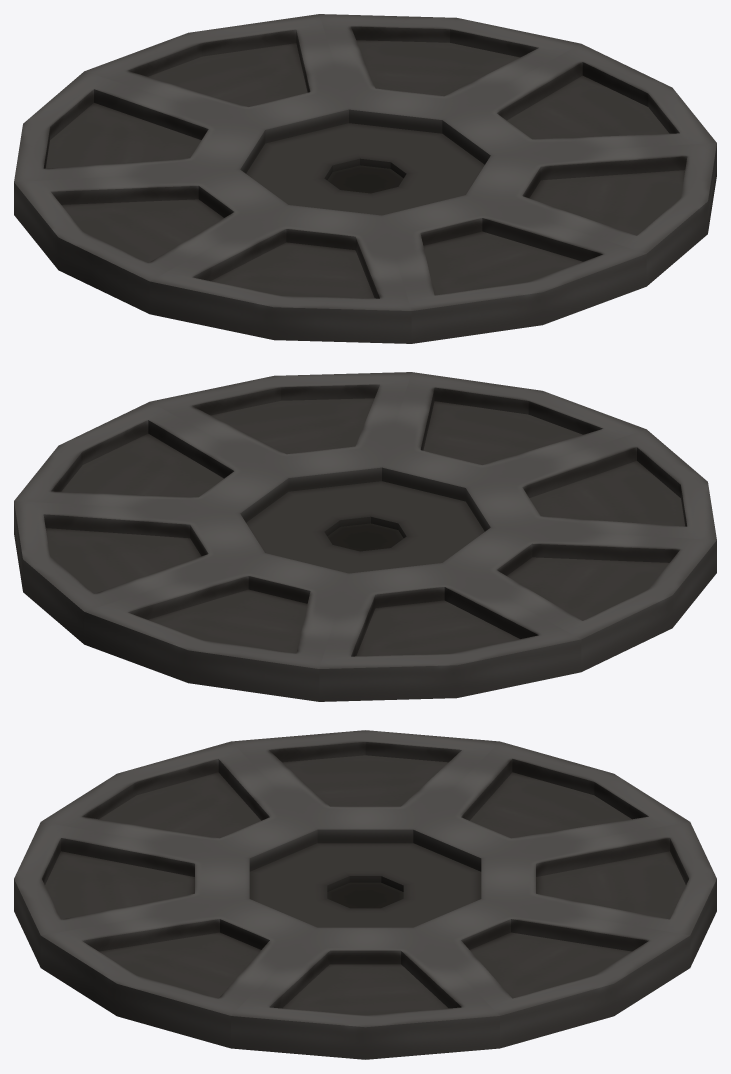
The model's file is manhole.fbx.
3 views of the same model, one above another, from view 1: azimuth 30°, elevation 25°; view 2: azimuth 150°, elevation 25°; view 3: azimuth 270°, elevation 25° (orthographic).
Parts seen in each view (by area): view 1: manhole_; view 2: manhole_; view 3: manhole_.
Boxes of the visible parts, x1,y1,x2,y2 form: manhole_: [14, 14, 716, 343]; manhole_: [14, 372, 716, 701]; manhole_: [14, 730, 716, 1059].
Size of the model in its own units: 103 by 5.25 by 103.
